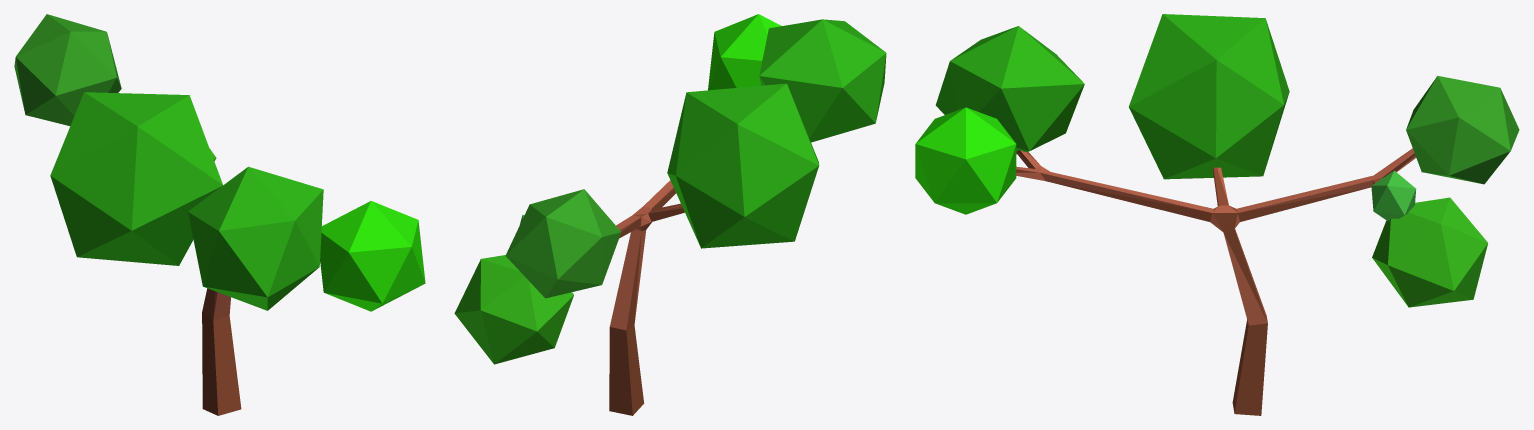
File: tree_01.fbx
3 views of the same model, side by side, from view 1: azimuth 30°, elevation 25°; view 2: azimuth 150°, elevation 25°; view 3: azimuth 270°, elevation 25° (orthographic). The views are drawn at different scales.
Visible parts, largest first — view 1: Icosphere.002, Icosphere.001, Icosphere, Icosphere.004, Cube; view 2: Icosphere.002, Icosphere.001, Icosphere.004, Icosphere.005, Cube, Icosphere; view 3: Icosphere.002, Icosphere.001, Cube, Icosphere.005, Icosphere.004, Icosphere, Icosphere.003.
Boxes of the visible parts, x1,y1,x2,y2 form: Icosphere.002: (50,92,222,265); Icosphere.001: (188,166,323,310); Icosphere: (320,201,425,311); Icosphere.004: (14,14,121,125); Cube: (202,261,320,415); Icosphere.002: (667,83,819,248); Icosphere.001: (759,19,886,142); Icosphere.004: (505,189,621,298); Icosphere.005: (454,255,573,364); Cube: (609,180,684,415); Icosphere: (708,14,781,90); Icosphere.002: (1129,14,1289,179); Icosphere.001: (935,26,1084,154); Cube: (1015,148,1416,415); Icosphere.005: (1372,197,1487,307); Icosphere.004: (1406,76,1519,184); Icosphere: (915,107,1016,214); Icosphere.003: (1371,170,1416,221).
Bounding box in the file's own units: 502 × 635 × 1019.
